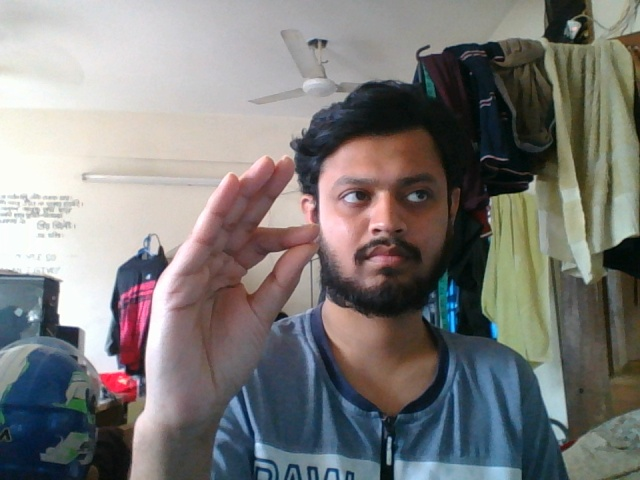ieo: (145, 148, 326, 456)
